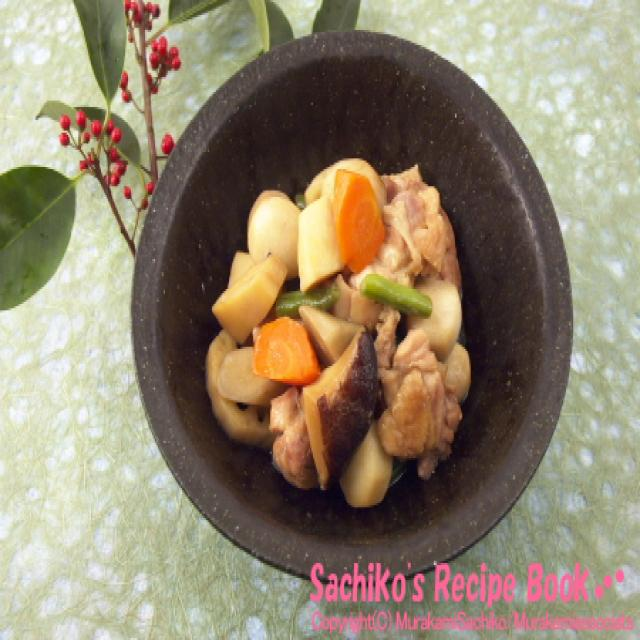鸡肉料理 含炸鸡: (192, 141, 492, 514)
